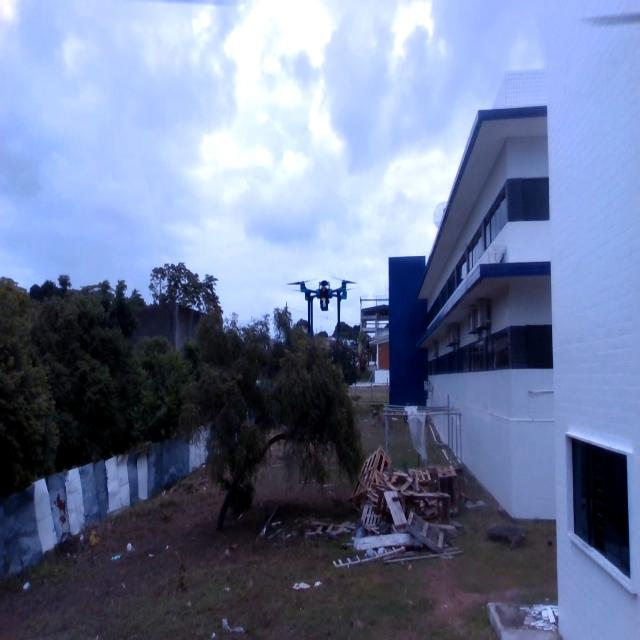-uav-: (282, 264, 361, 344)
